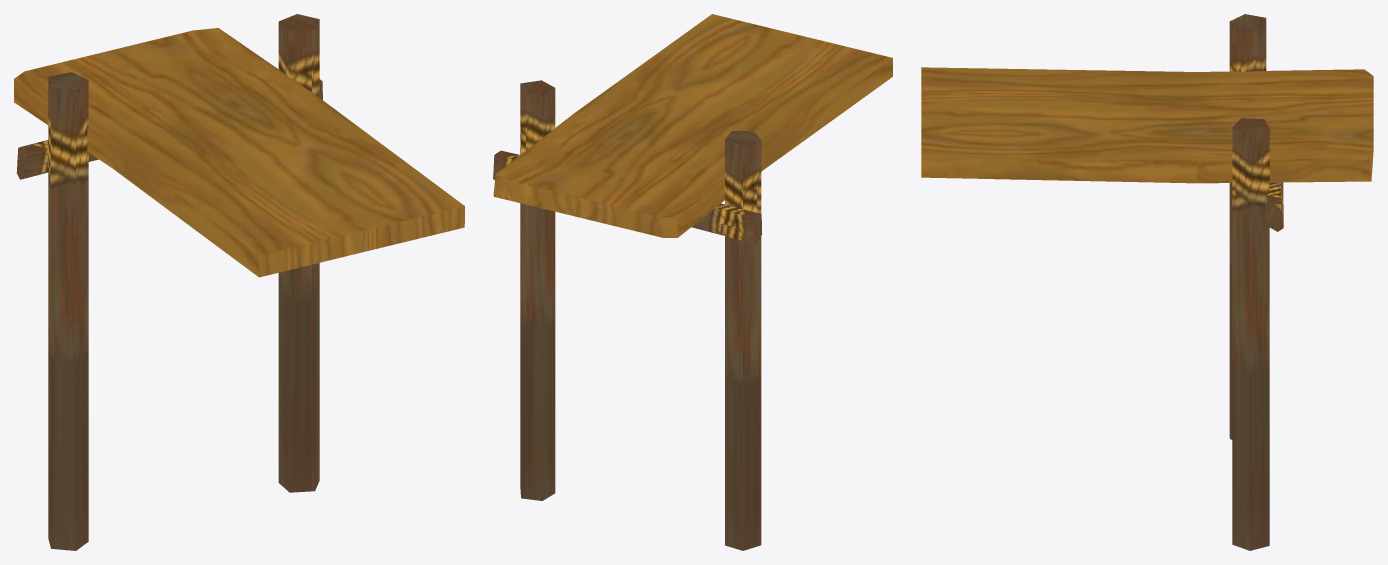
File: dock.glb
3 renders of one model, left to right at view 1: azimuth 30°, elevation 25°; view 2: azimuth 150°, elevation 25°; view 3: azimuth 270°, elevation 25°, orthographic. The views are drawn at different scales.
Visible parts, largest first — view 1: piers_tt; view 2: piers_tt; view 3: piers_tt.
Part boxes in pixels (x1,y1,x2,y2): piers_tt: (14,14,464,550); piers_tt: (493,14,892,550); piers_tt: (921,14,1373,550).
Size of the model in its own units: 5.69 by 8.46 by 8.31.
Materials: 2 (2 with a texture image).
